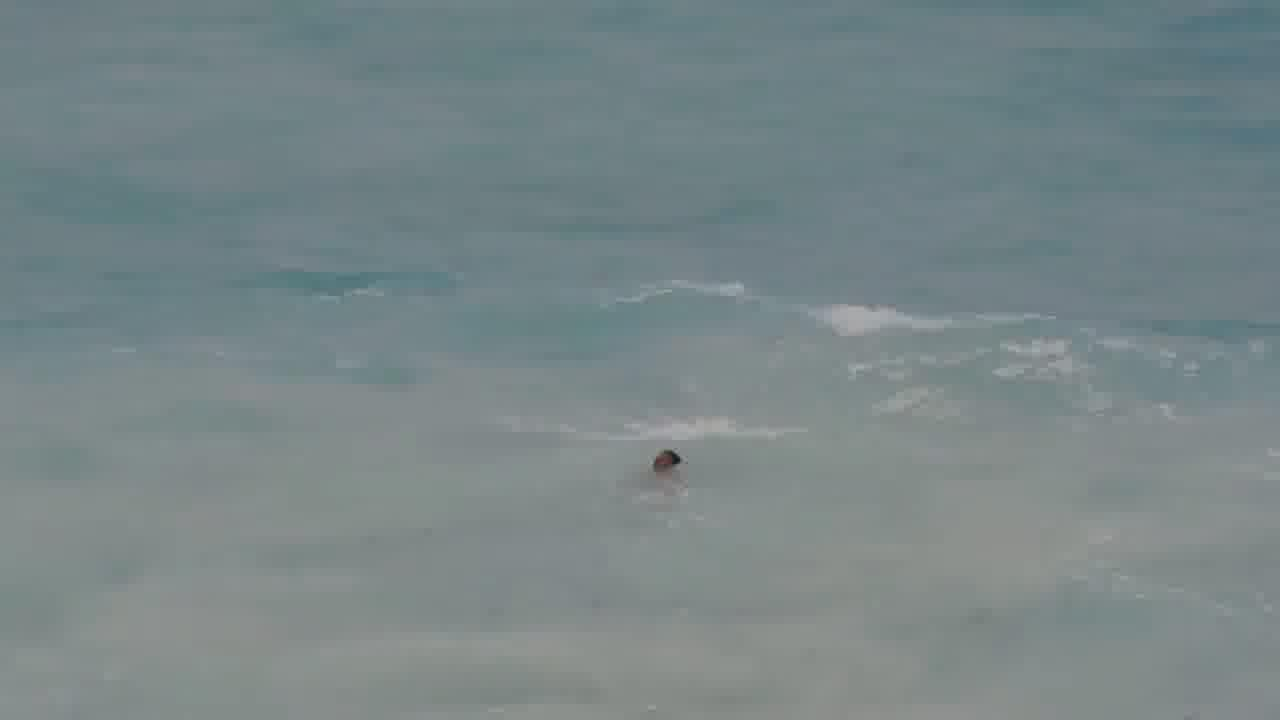human: (641, 438, 689, 480)
